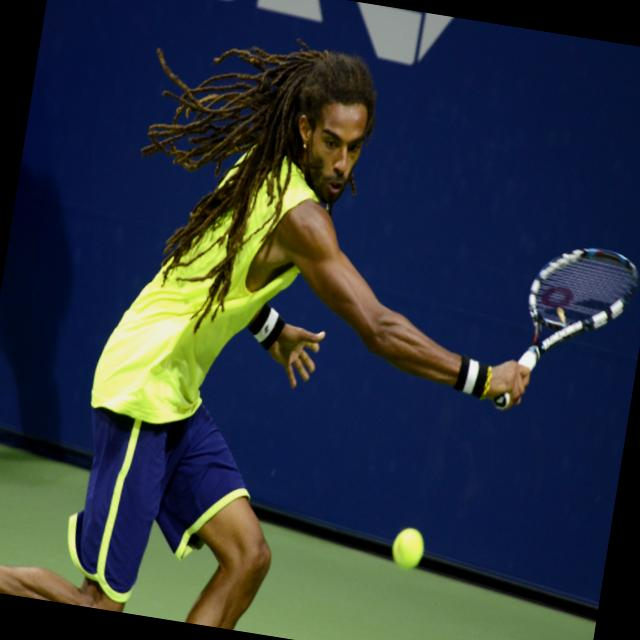Tennis Ball: (389, 526, 424, 568)
